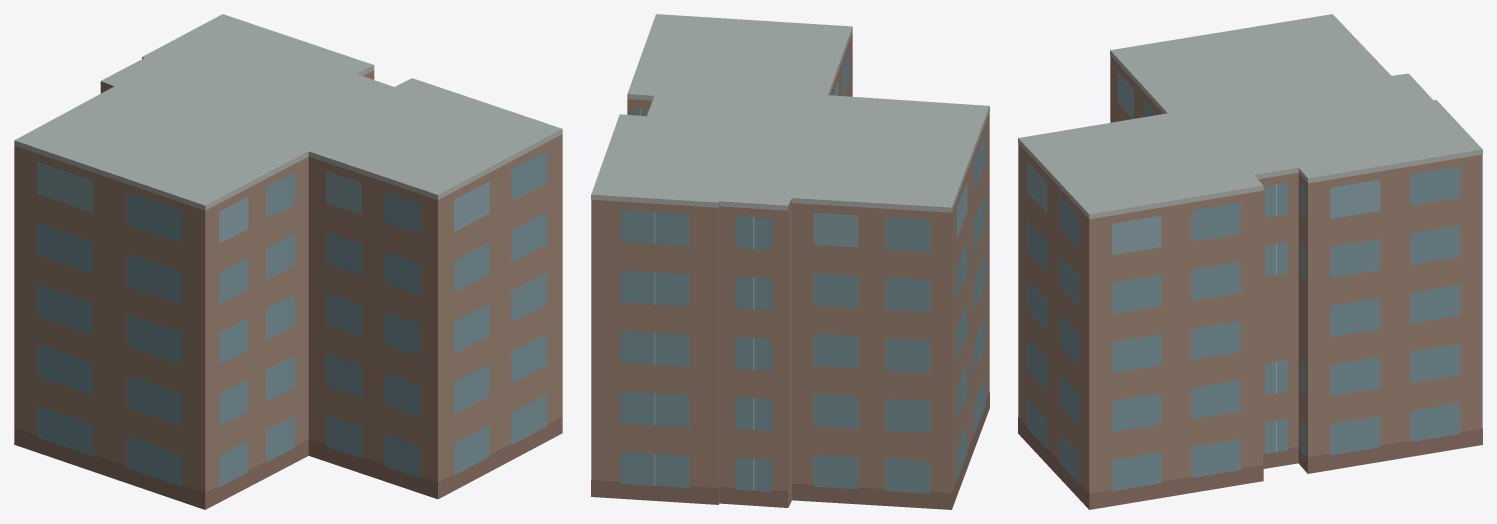
Rendered from survey-upis-32549044.glb.
The picture shows the model from 3 angles, left to right: view 1: azimuth 30°, elevation 25°; view 2: azimuth 150°, elevation 25°; view 3: azimuth 270°, elevation 25°; orthographic projection. The views are drawn at different scales.
Visible parts, largest first — view 1: survey-upis-32549044.tmp; view 2: survey-upis-32549044.tmp; view 3: survey-upis-32549044.tmp.
Part boxes in pixels (bbox=[...]): survey-upis-32549044.tmp: bbox=[14, 14, 562, 509]; survey-upis-32549044.tmp: bbox=[591, 14, 989, 509]; survey-upis-32549044.tmp: bbox=[1018, 14, 1482, 509].
Size of the model in its own units: 21.18 by 14.55 by 20.75.
